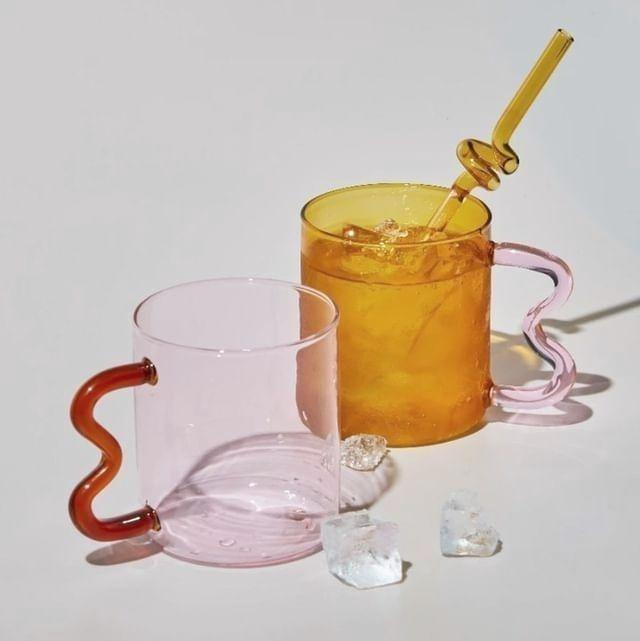glass-mug: (67, 268, 356, 579), (292, 175, 585, 447)
